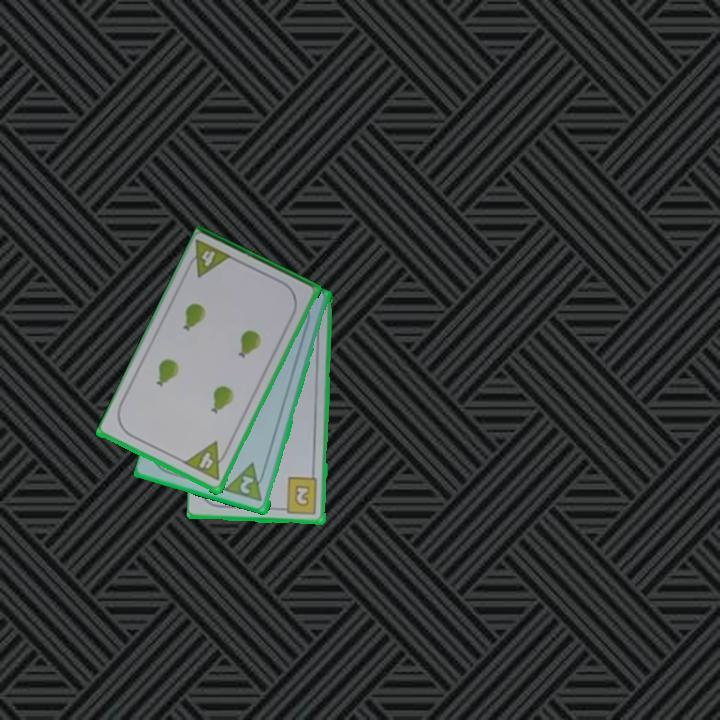2b: (277, 475, 321, 517)
2p: (223, 460, 270, 505)
4p: (182, 236, 236, 281), (181, 439, 232, 484)
